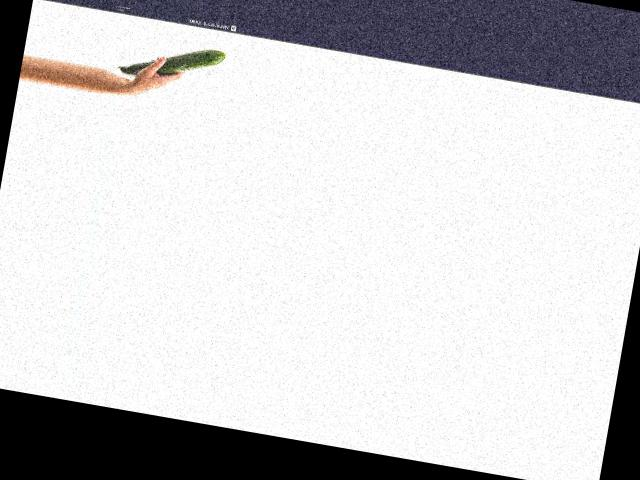cucumber: (116, 33, 226, 91)
